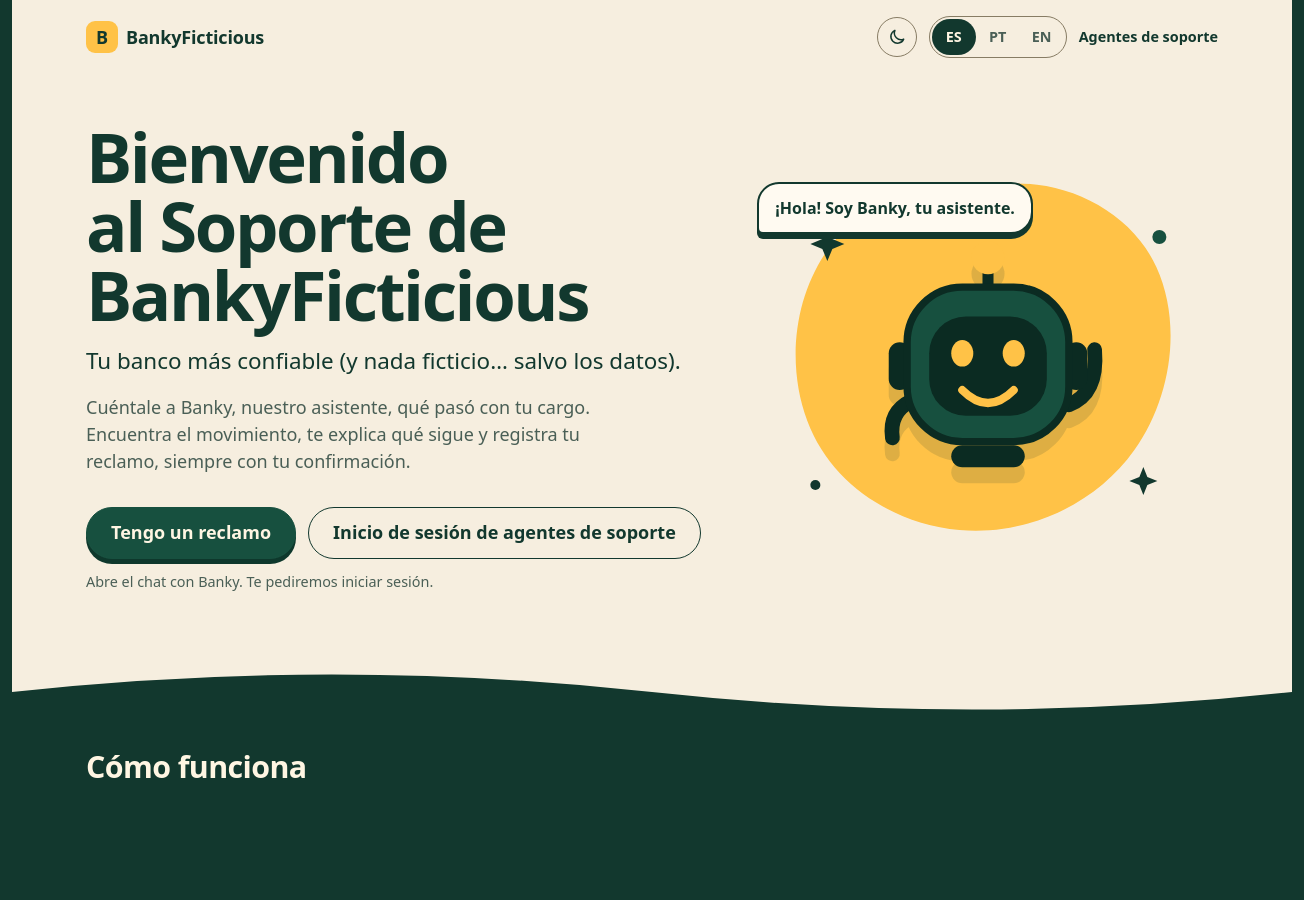
Test: LandingPage › switches to Portuguese and sets the document language
What coordinates should you click on to do the following:
click the button named "Português"
I would click on:
 (998, 37)
Its box is 976,19 -> 1020,55.
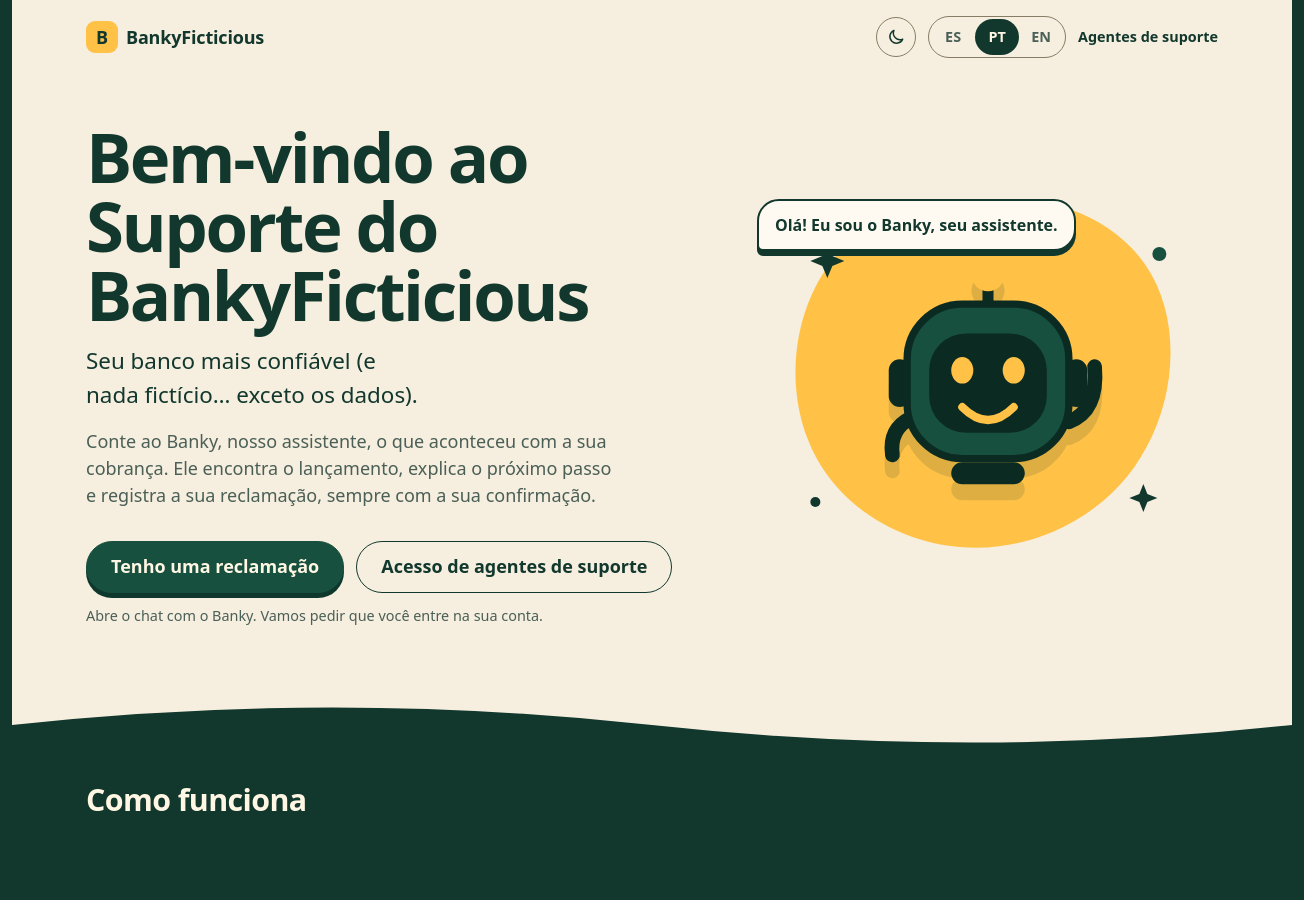
expect the link "Tenho uma reclamação" is shown: met, box 86,541 -> 344,593
